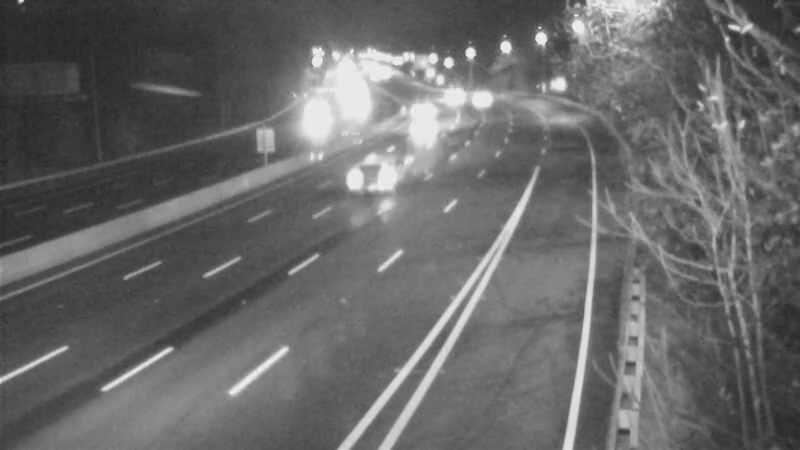vehicle: (339, 134, 419, 214), (424, 69, 474, 119), (449, 75, 499, 125), (395, 84, 445, 134), (400, 102, 450, 152), (290, 93, 340, 143)
